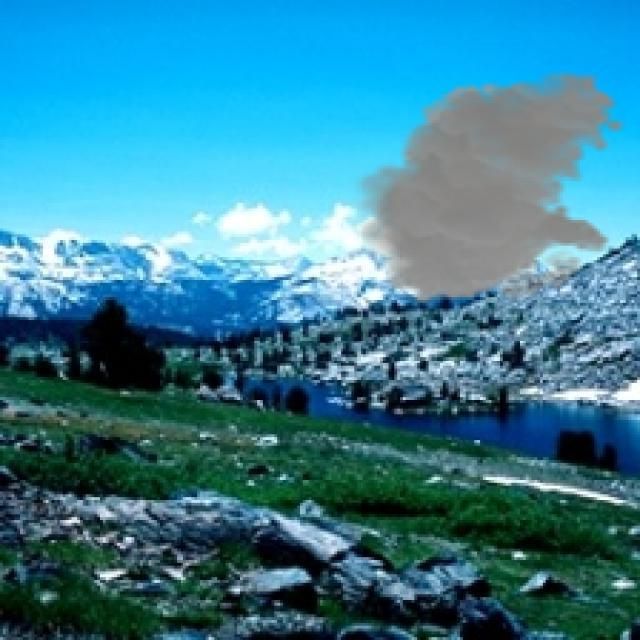Smoke: (346, 71, 626, 306)
